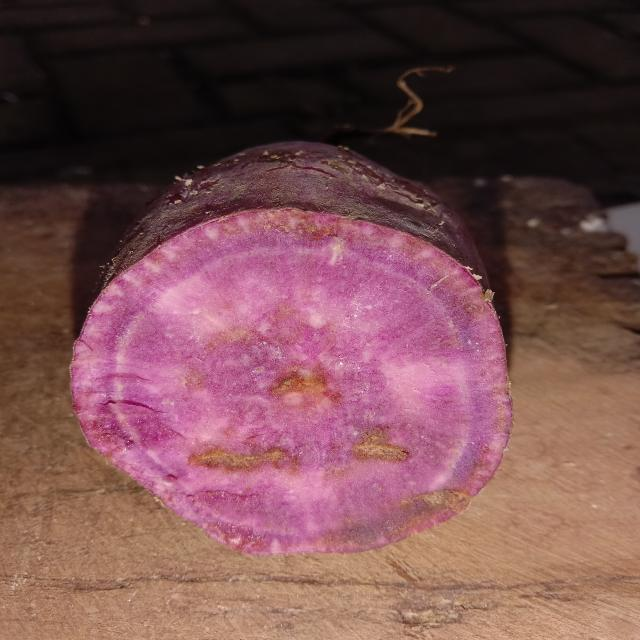Sick Sweet Potato_Tuber Rot: (72, 210, 512, 554)
